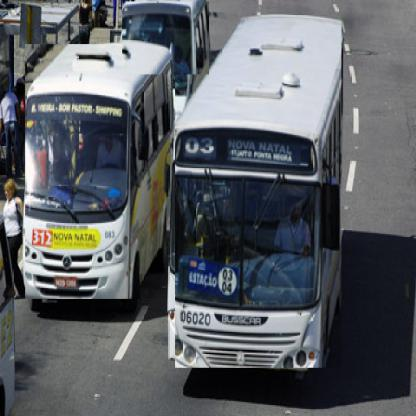bus: (176, 16, 343, 370), (26, 45, 168, 301), (123, 2, 211, 77)
